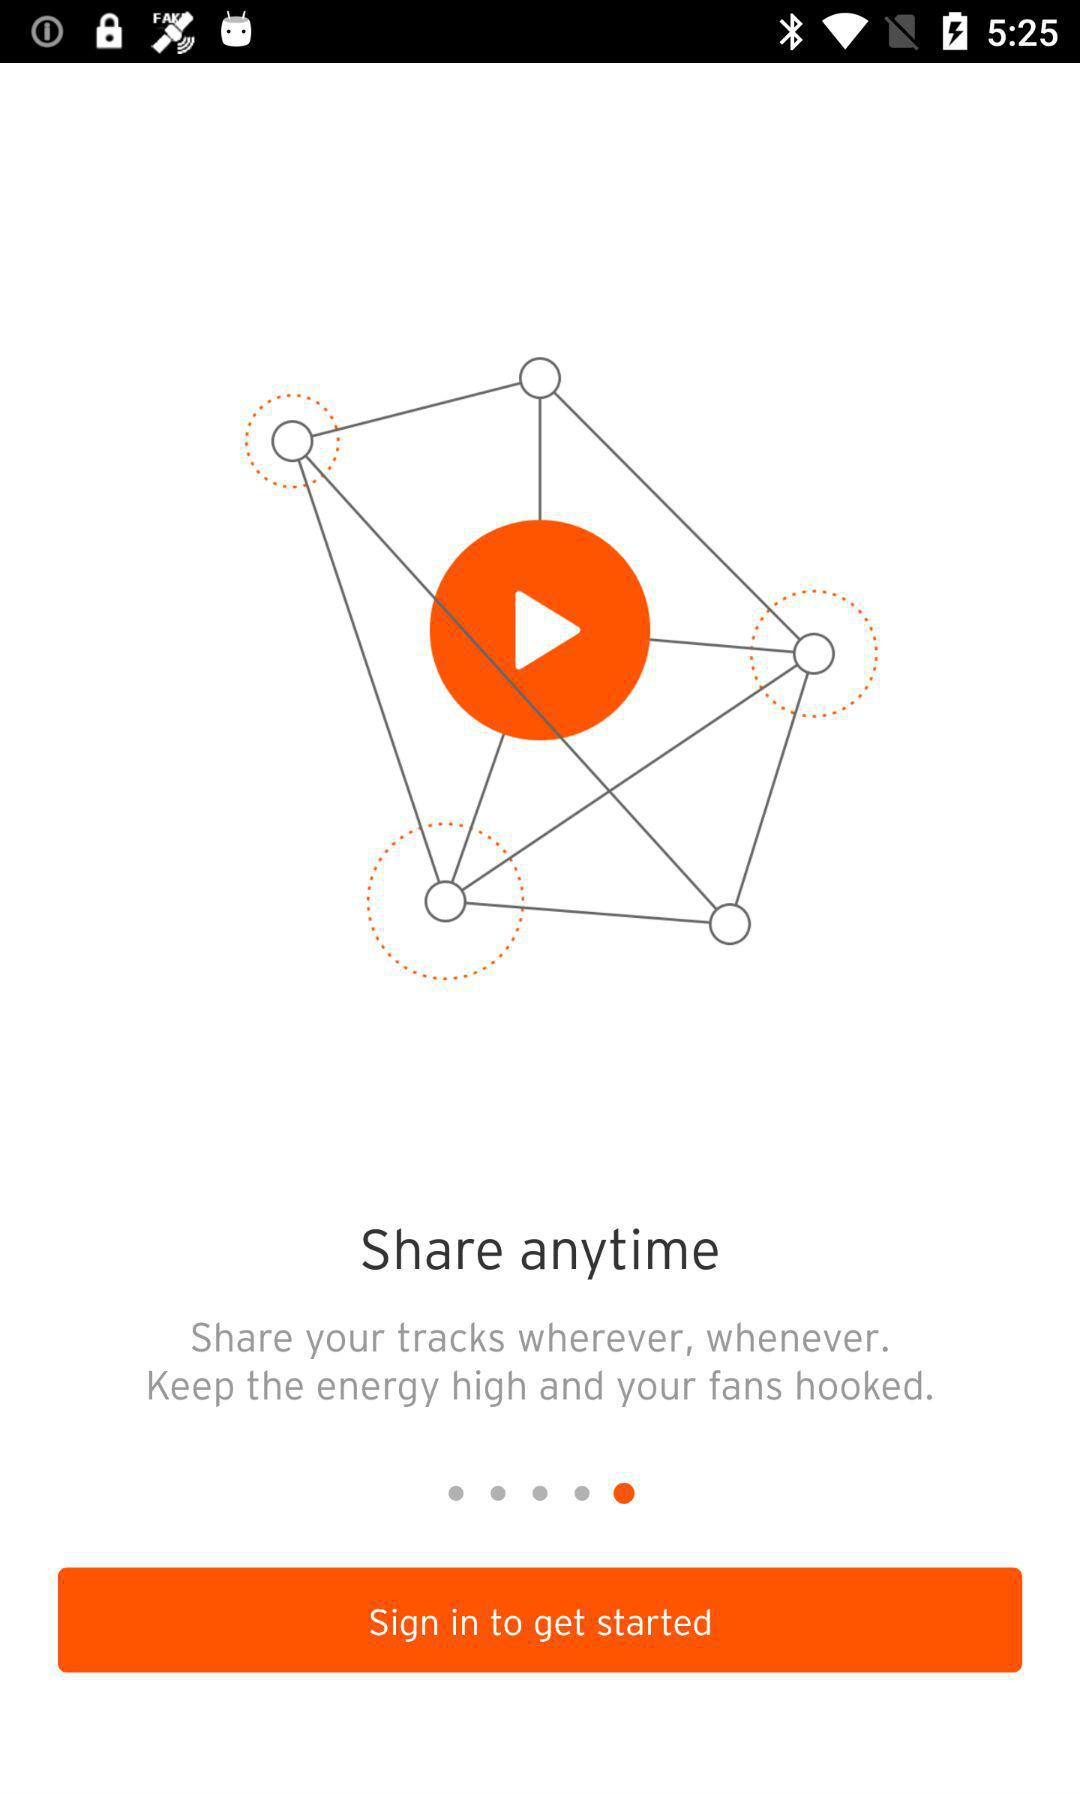Image: (243, 358, 880, 985)
PageIndicator: (447, 1483, 635, 1506)
Text: (147, 1320, 937, 1410), (361, 1228, 719, 1281)
TextButton: (58, 1567, 1024, 1674)
UpperTaskBar: (1, 1, 1080, 64)
